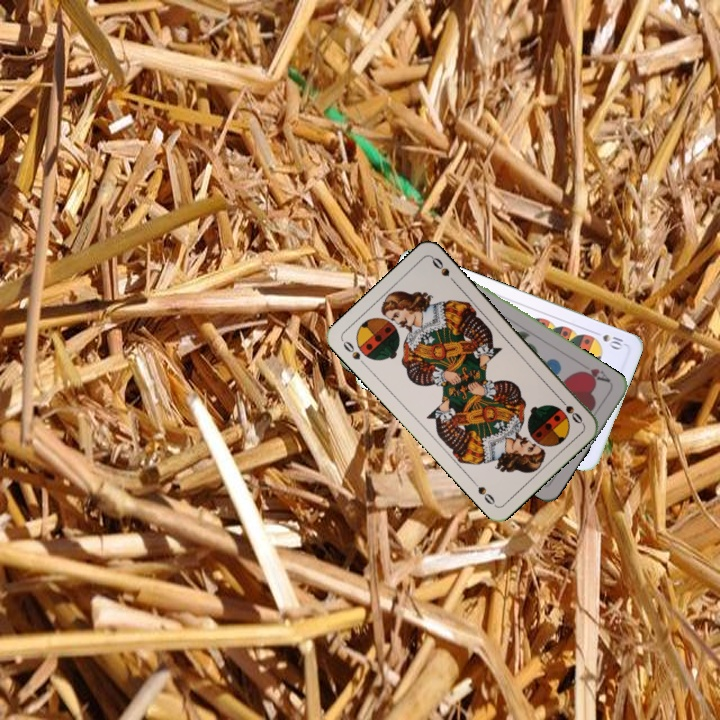HA: (575, 364, 613, 385)
S10: (589, 327, 628, 352)
SO: (554, 393, 586, 426), (339, 337, 370, 369)
